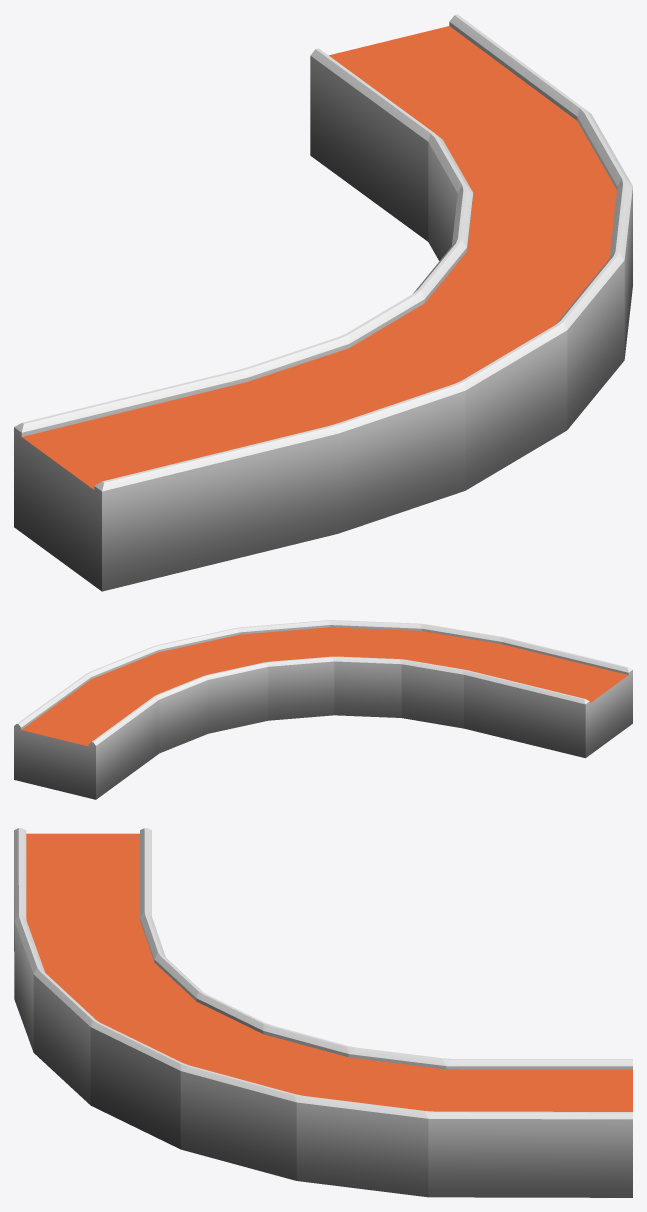
The model's file is Outer_Curve_Pavement.fbx.
3 views of the same model, one above another, from view 1: azimuth 30°, elevation 25°; view 2: azimuth 150°, elevation 25°; view 3: azimuth 270°, elevation 25° (orthographic). The views are drawn at different scales.
Parts seen in each view (by area): view 1: Outer_Curve_Pavement; view 2: Outer_Curve_Pavement; view 3: Outer_Curve_Pavement.
Boxes of the visible parts, x1,y1,x2,y2 form: Outer_Curve_Pavement: (14,14,632,591); Outer_Curve_Pavement: (14,620,632,799); Outer_Curve_Pavement: (14,828,632,1197).
Bounding box in the file's own units: 400 × 53.36 × 362.
